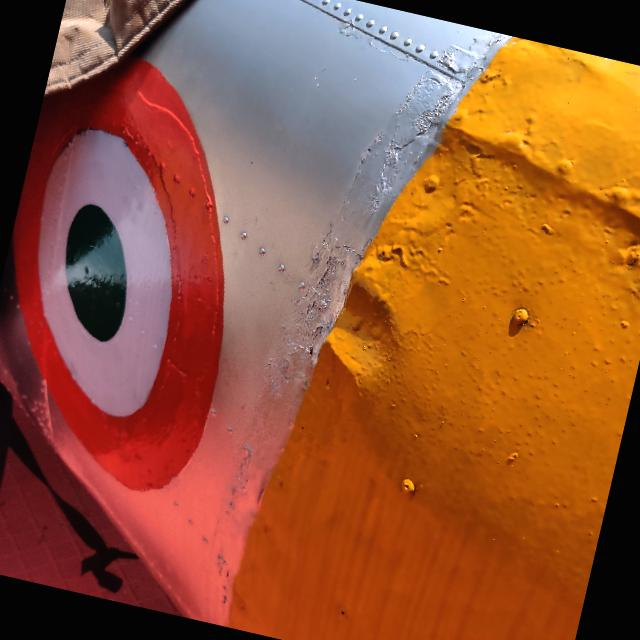dent: (278, 252, 440, 423)
